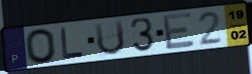2: (196, 10, 224, 47)
3: (129, 17, 156, 53)
E: (161, 11, 197, 52)
L: (59, 26, 86, 61)
O: (24, 27, 59, 65)
U: (93, 18, 127, 57)
